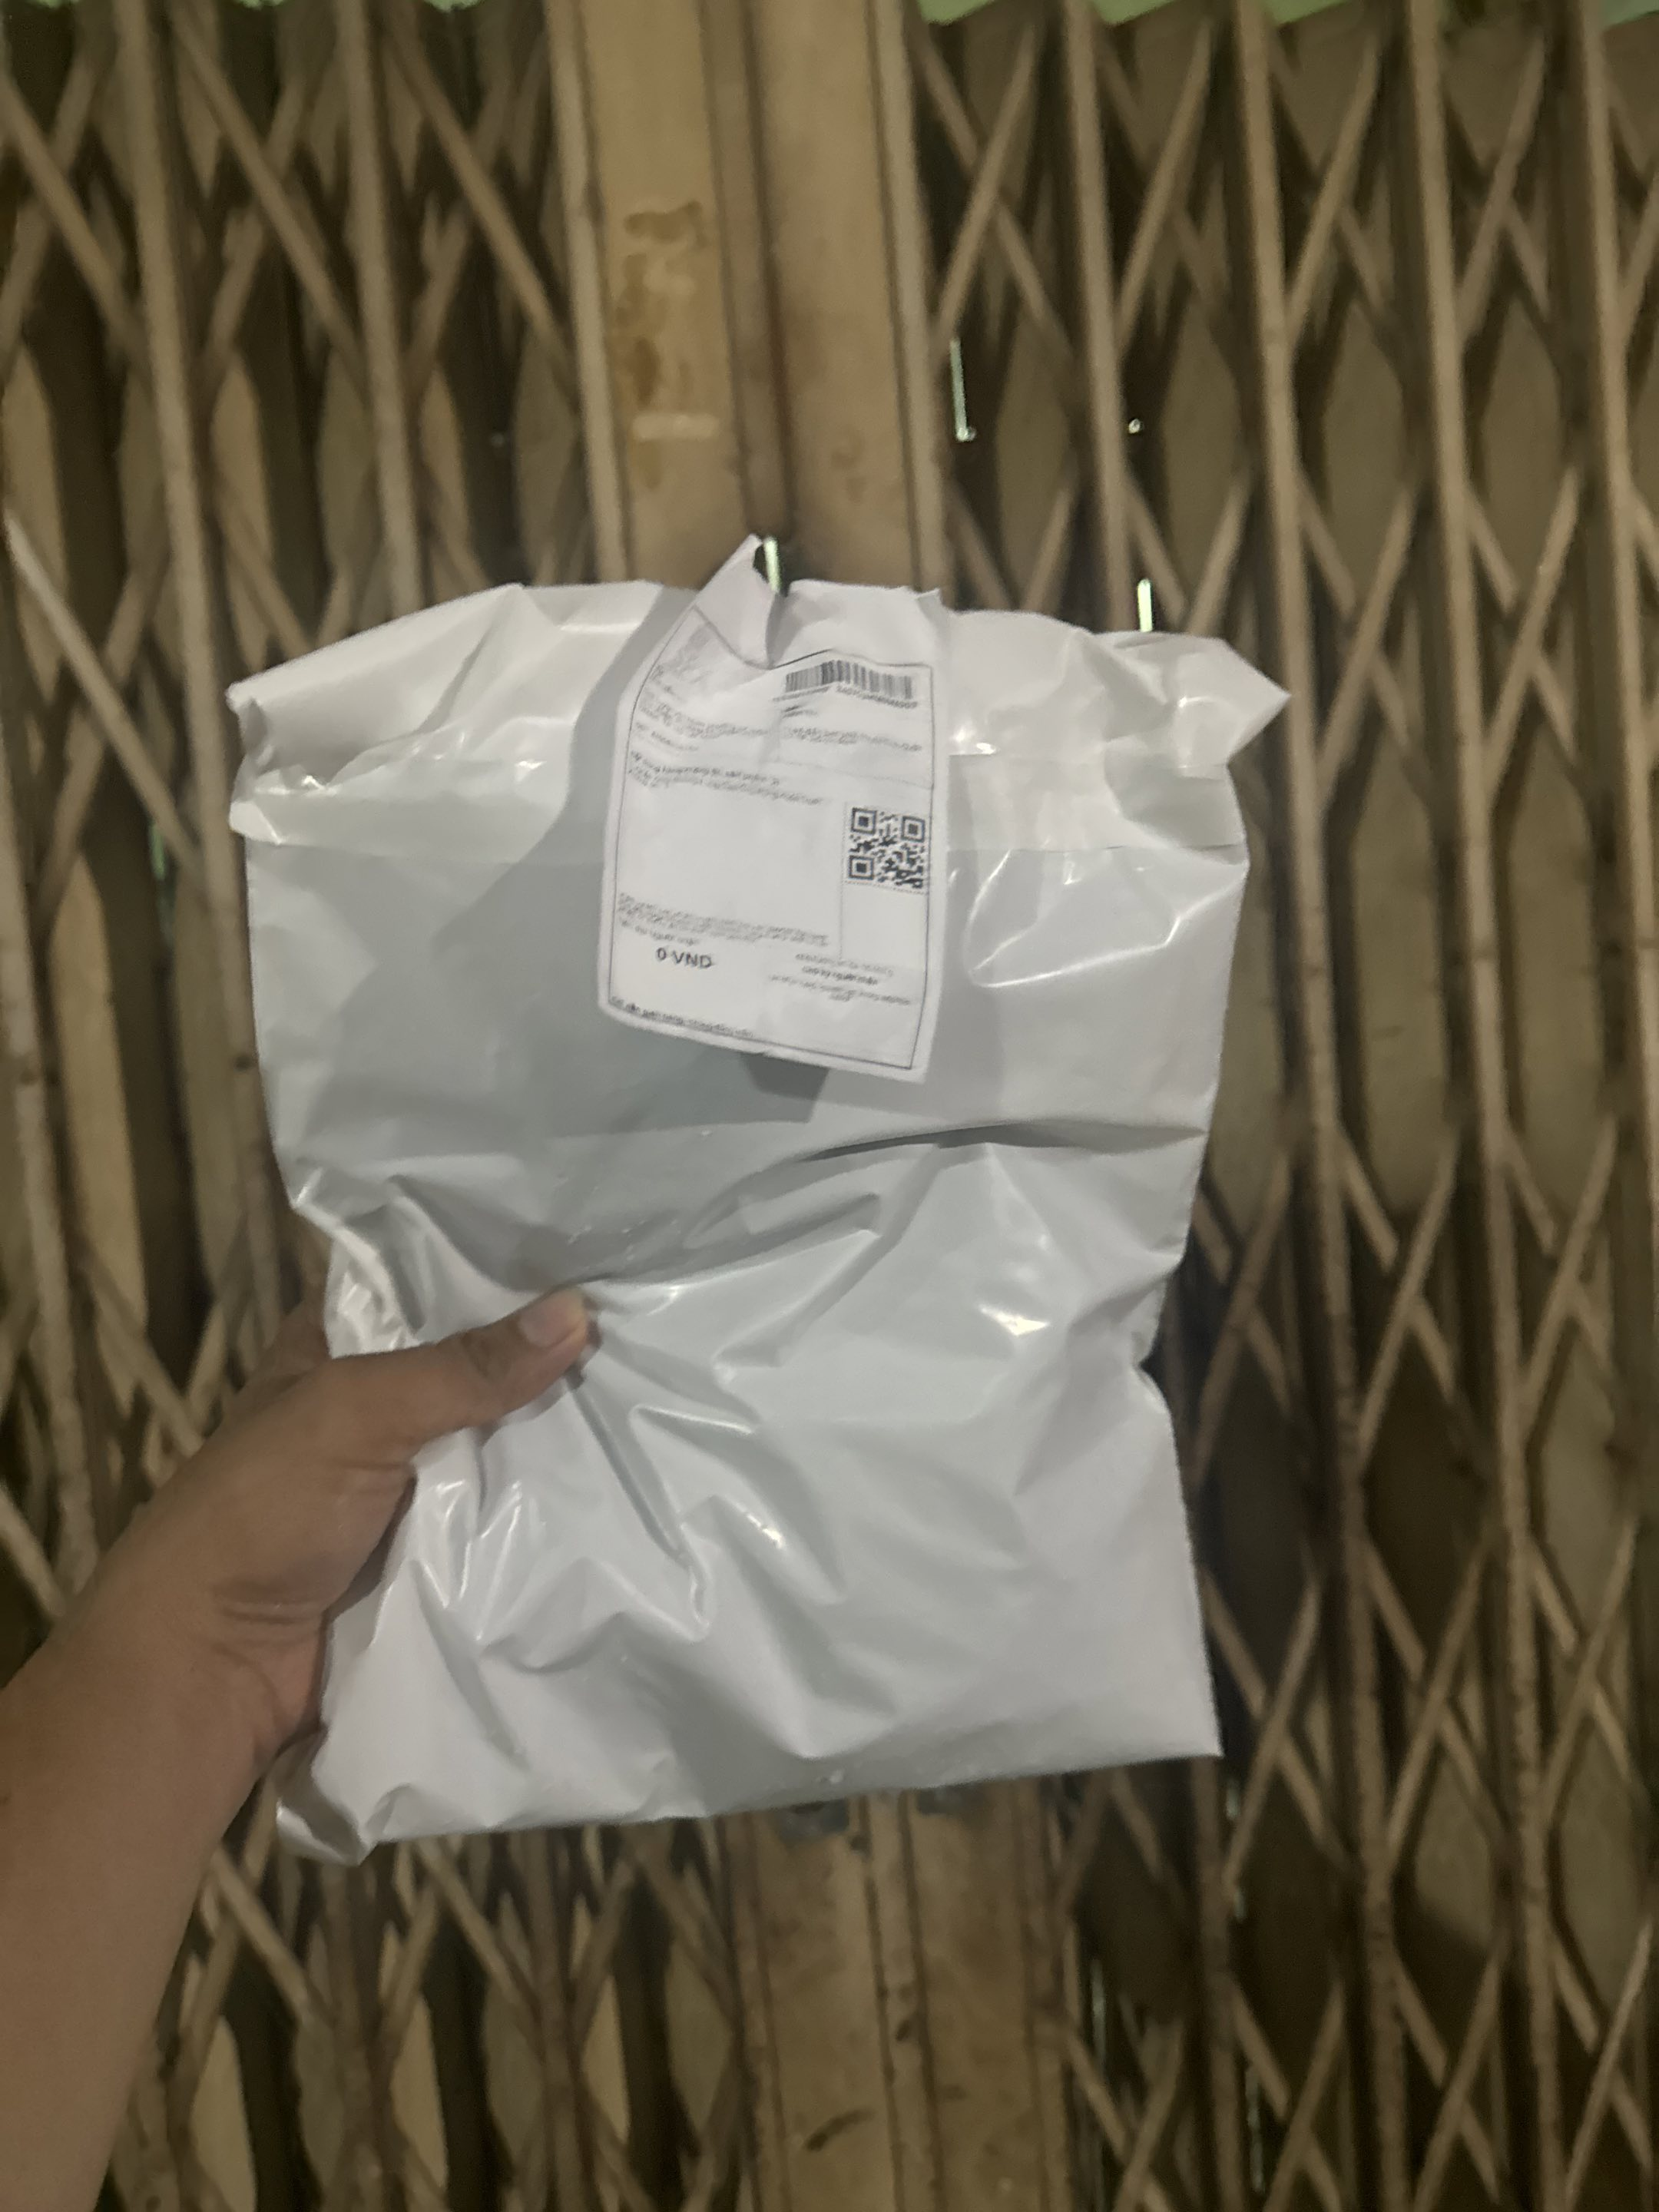pod: (594, 550, 990, 1096)
